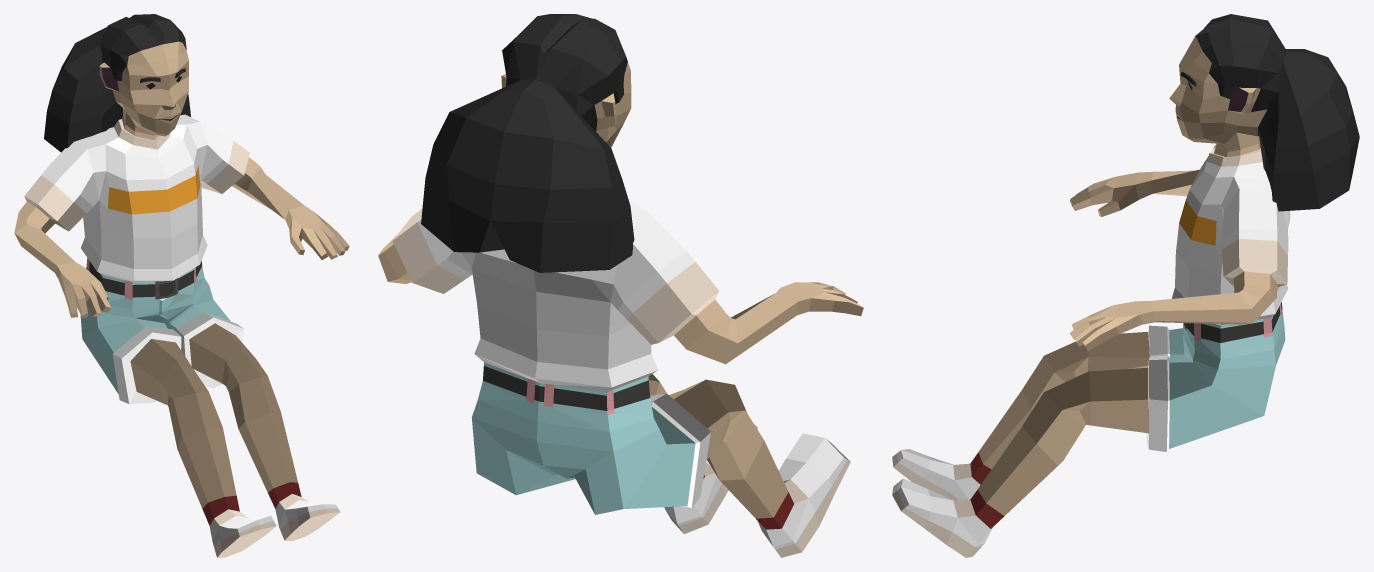
File: cpas student.fbx
The picture shows the model from 3 angles, left to right: view 1: azimuth 30°, elevation 25°; view 2: azimuth 150°, elevation 25°; view 3: azimuth 270°, elevation 25°; orthographic projection. The views are drawn at different scales.
Parts seen in each view (by area): view 1: girl-casual-shorts; view 2: girl-casual-shorts; view 3: girl-casual-shorts.
Boxes of the visible parts, x1,y1,x2,y2 form: girl-casual-shorts: (14, 14, 349, 557); girl-casual-shorts: (378, 14, 863, 557); girl-casual-shorts: (892, 14, 1359, 557).
Bounding box in the file's own units: 3.75 × 5.75 × 4.73.
Materials: 1 (1 with a texture image).
